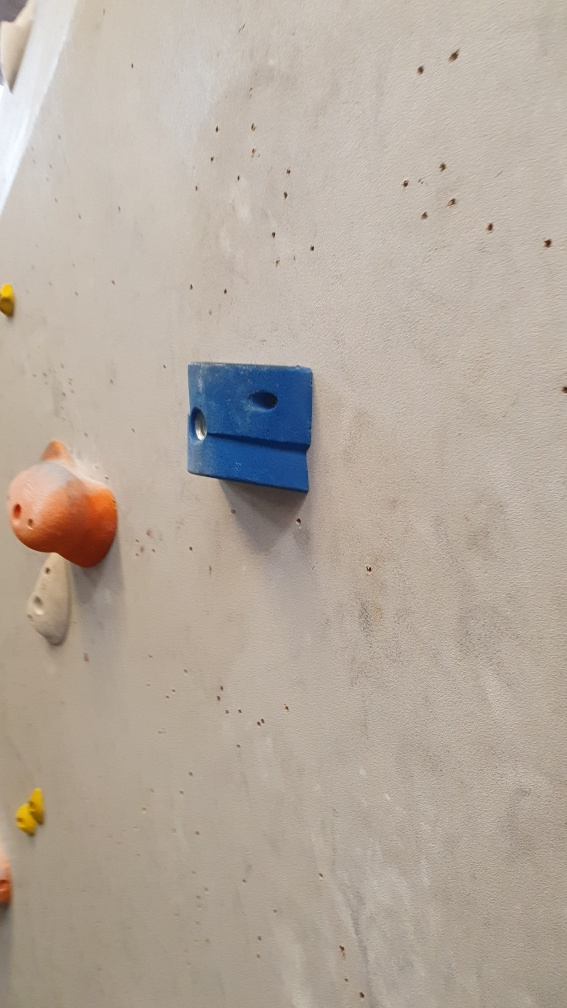Pinch: (182, 355, 321, 496)
Sloper: (9, 463, 117, 568)
